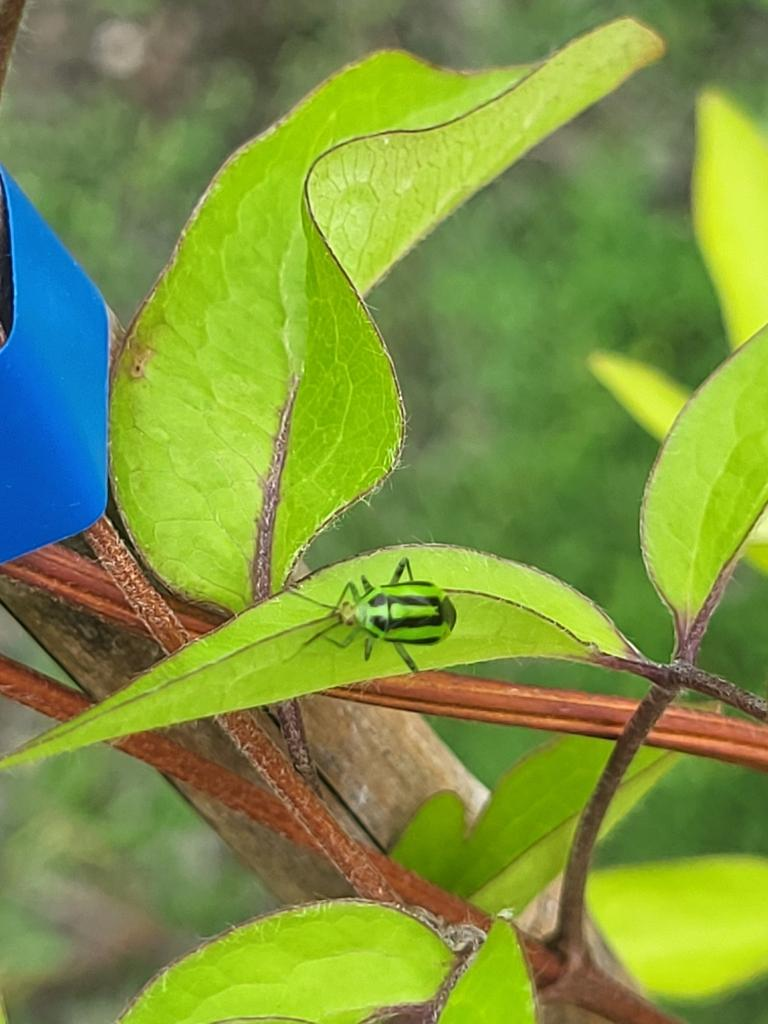plant_bugs: (266, 537, 483, 697)
